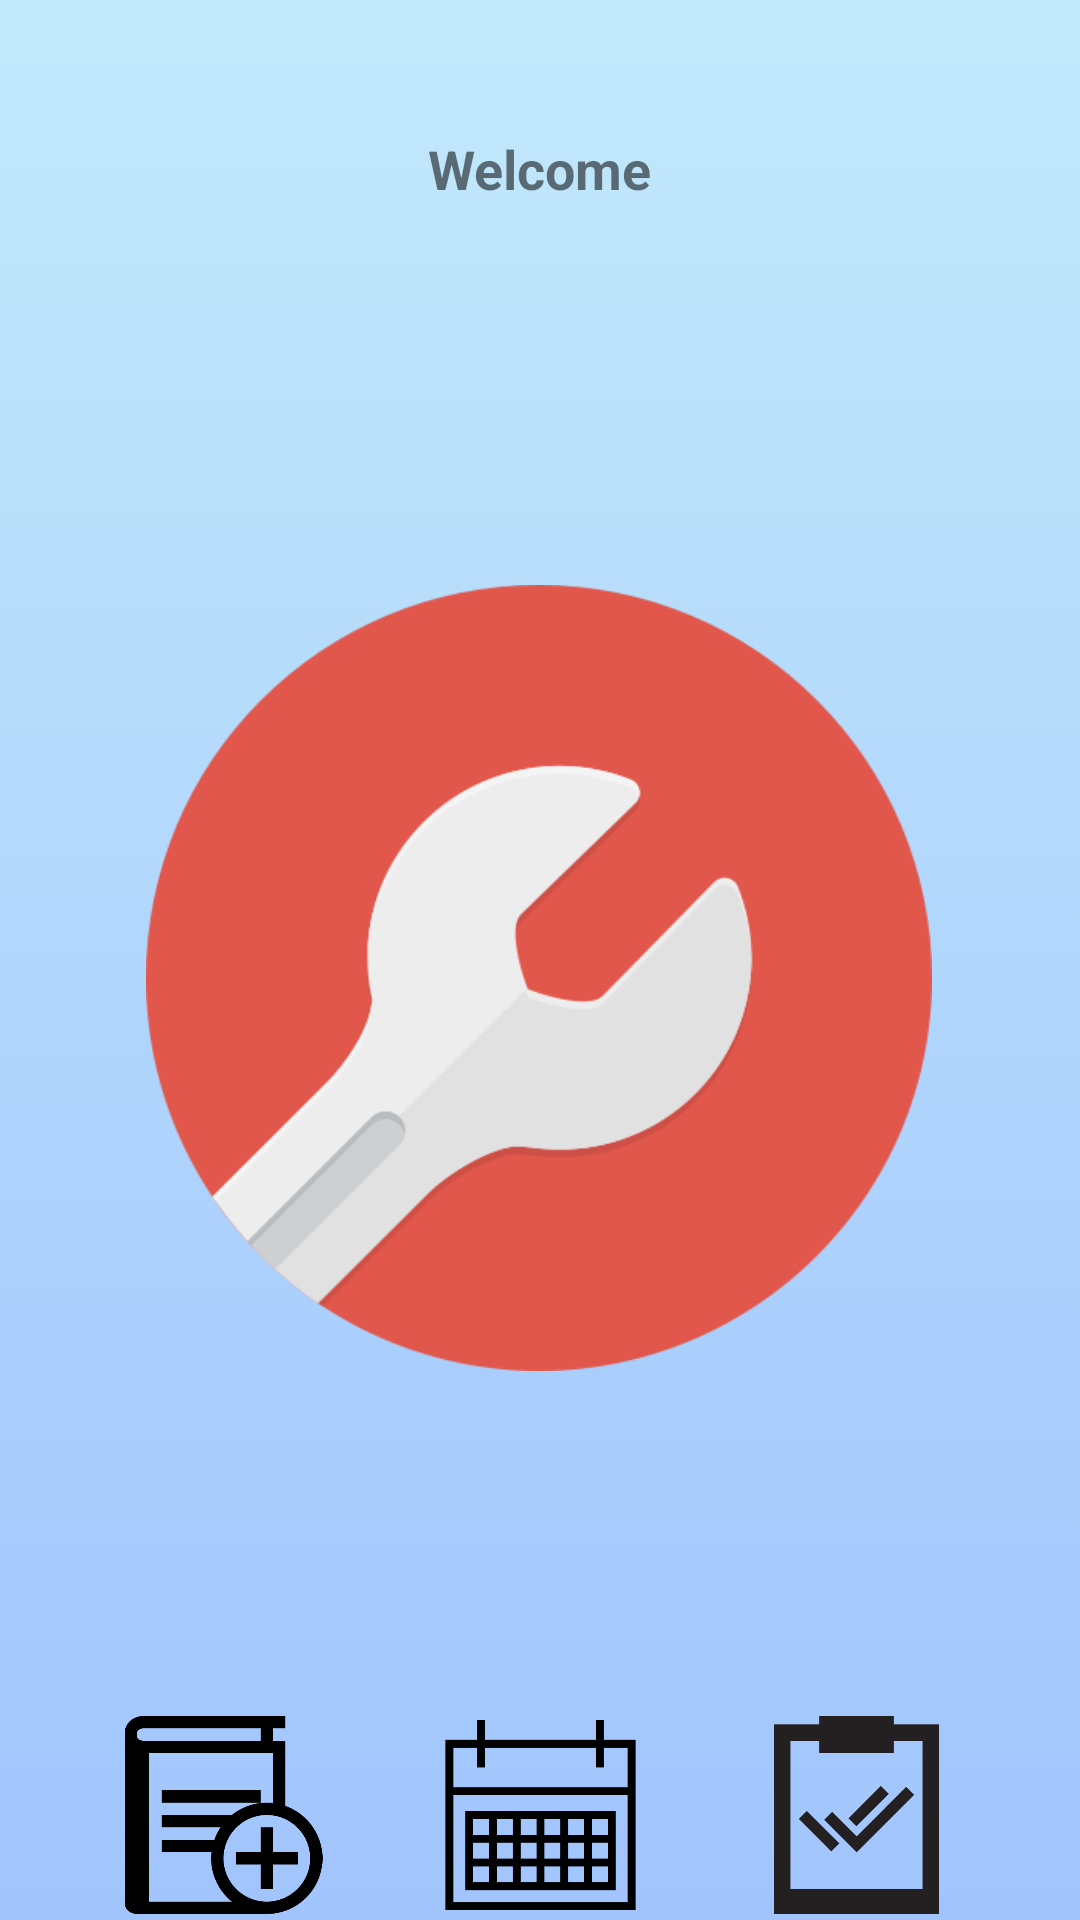

Named icons in this screenshot (1080×1920) and their bounding boxes, (x1, y1, x2, y2):
iconfinder book text add: (125, 1716, 323, 1914)
